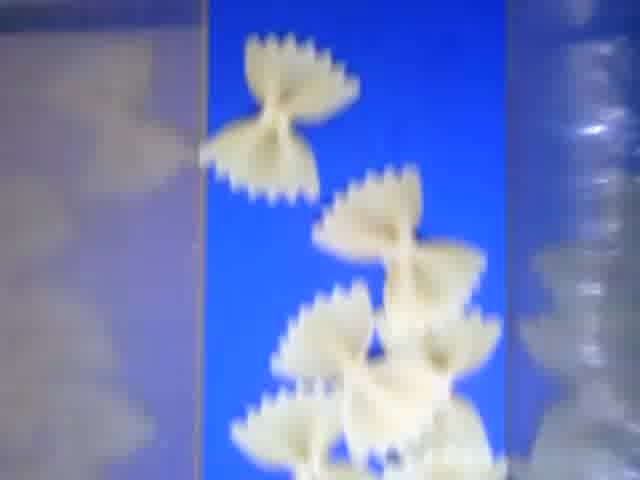farfalle: (268, 277, 452, 464), (196, 34, 363, 203), (312, 162, 488, 311), (230, 380, 378, 480)
